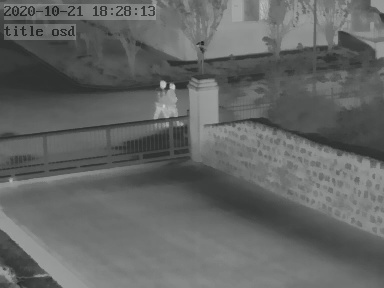person: (153, 79, 170, 120), (163, 79, 180, 120)
